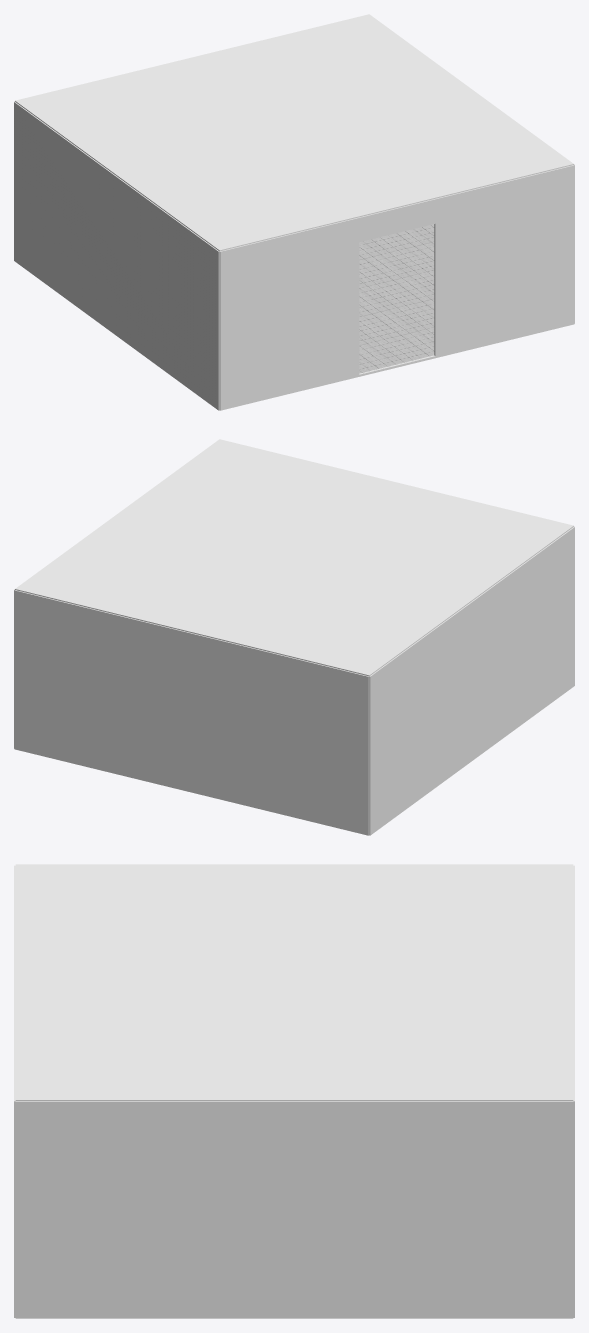
Rendered from OfficeRoom.fbx.
The picture shows the model from 3 angles, top to bottom: view 1: azimuth 30°, elevation 25°; view 2: azimuth 150°, elevation 25°; view 3: azimuth 270°, elevation 25°; orthographic projection. The views are drawn at different scales.
Parts seen in each view (by area): view 1: node_id28, node_id31, node_id40, node_id43; view 2: node_id28, node_id34, node_id40; view 3: node_id28, node_id37, node_id31, node_id34.
Boxes of the visible parts, <box> form: node_id28: <box>15,14,573,251</box>; node_id31: <box>219,165,574,410</box>; node_id40: <box>14,101,219,410</box>; node_id43: <box>359,224,434,373</box>; node_id28: <box>15,439,573,676</box>; node_id34: <box>14,590,369,835</box>; node_id40: <box>369,526,574,835</box>; node_id28: <box>15,864,573,1101</box>; node_id37: <box>15,1101,573,1318</box>; node_id31: <box>14,865,15,1317</box>; node_id34: <box>573,865,574,1317</box>.
Bounding box in the file's own units: 0.512 × 0.2196 × 0.512.
Materials: 28 (14 with a texture image).
